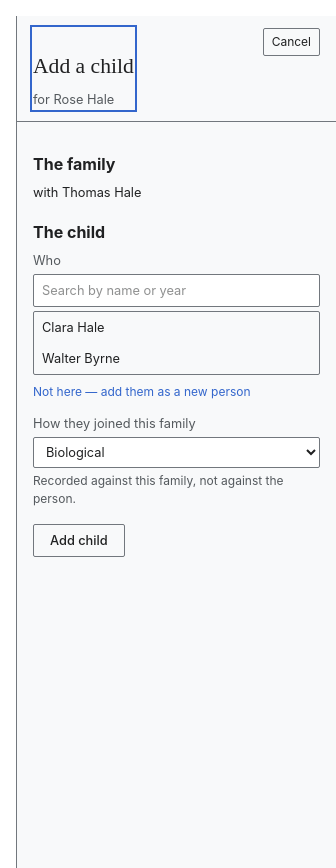
Test: creating a child inline › can be backed out of, returning to the search
Click the button "Not here — add them as a new person": (142, 392) left=33, top=383, right=250, bottom=401
(page scrolled)
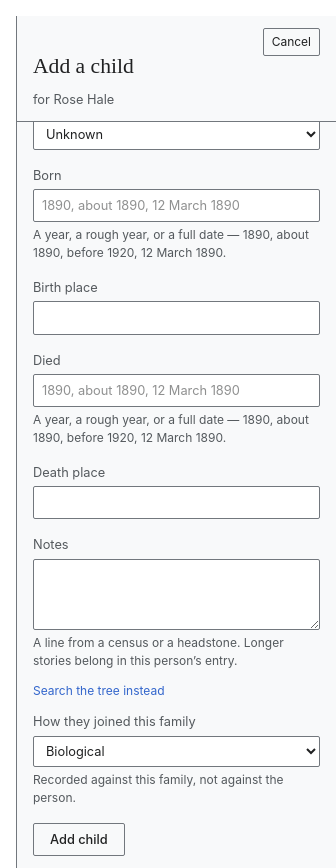
Click the button "Search the tree instead": (99, 691) left=33, top=682, right=164, bottom=700
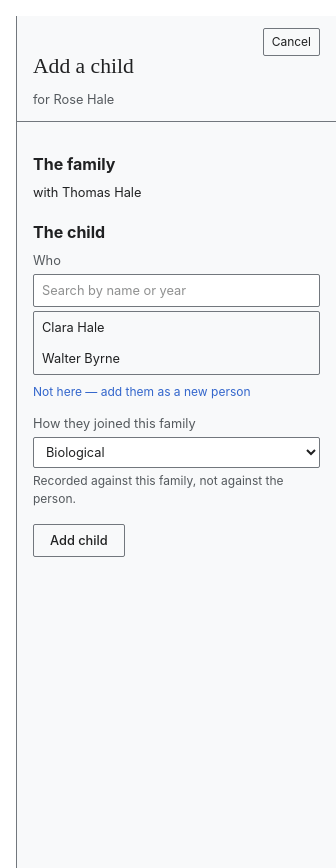
Now the search field labelled "Who" is shown, box left=33, top=274, right=320, bottom=307
